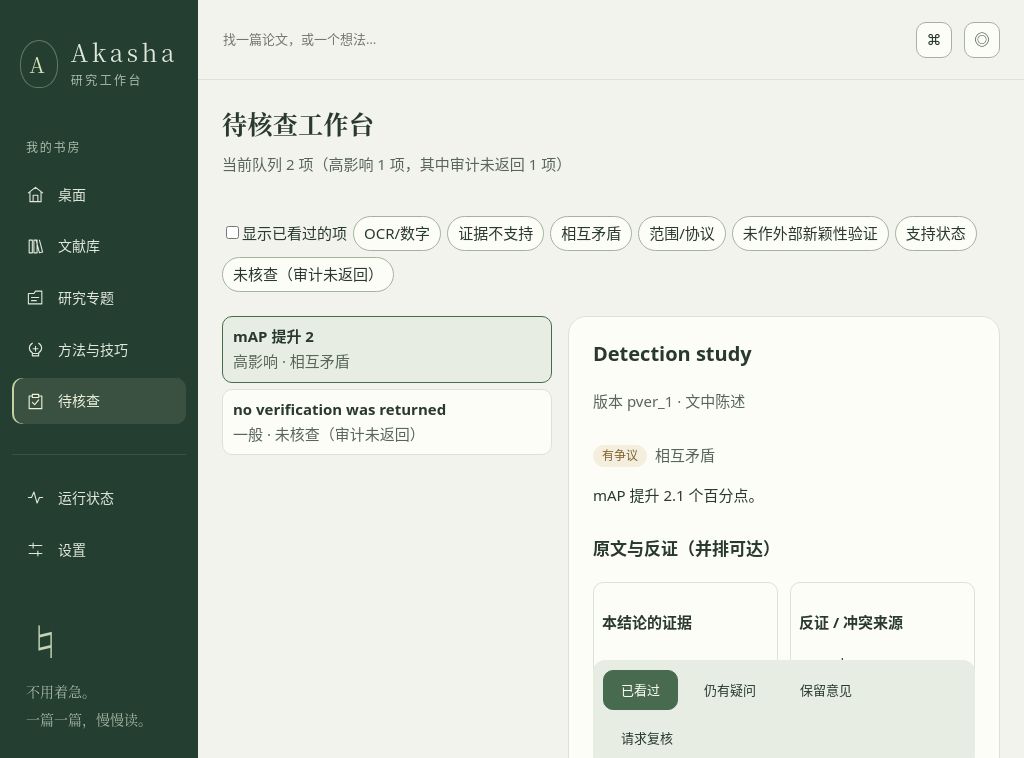
UX-033 review decision is personal, not scientific › groups items by real error type and can filter by group
The image size is (1024, 758).
Check: the text with test id "queue-summary" shows "审计未返回 1 项", box top-left (222, 154), bottom-right (571, 174)
Click the button "未核查（审计未返回）" at coordinates (308, 274), box top-left (222, 257), bottom-right (394, 292)
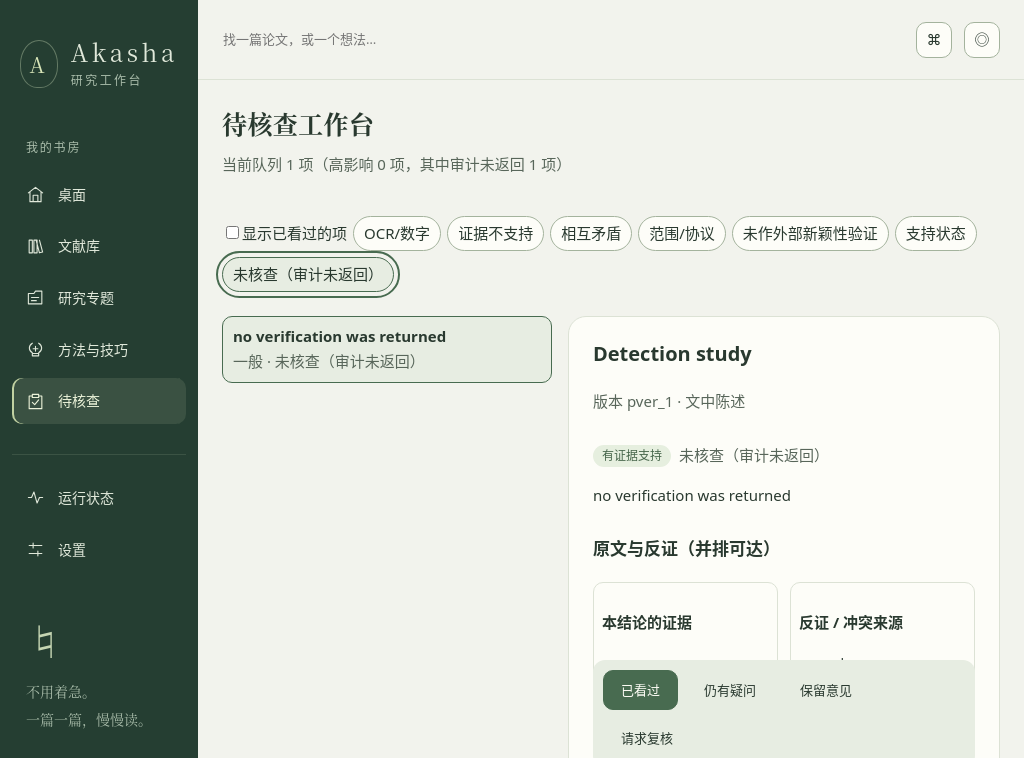
Check: the text with test id "review-statement" reads "no verification was returned", box top-left (593, 484), bottom-right (791, 504)
Check: the text "mAP 提升 2.1 个百分点。" is gone
